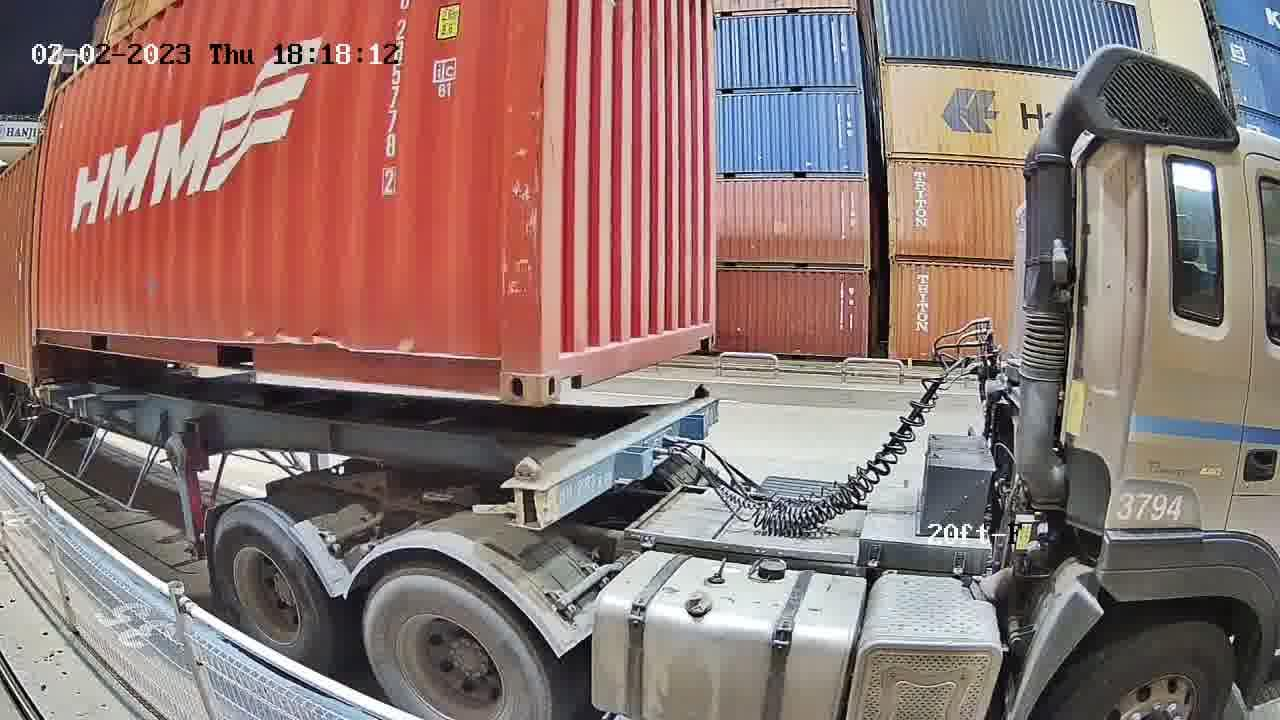Chassis: (505, 394, 715, 526)
Cone: (507, 457, 541, 526), (690, 381, 711, 398)
Hole_L: (538, 335, 588, 405)
Hole_R: (470, 336, 542, 405), (693, 314, 717, 350)
Tire: (361, 575, 551, 719), (214, 507, 328, 668)
